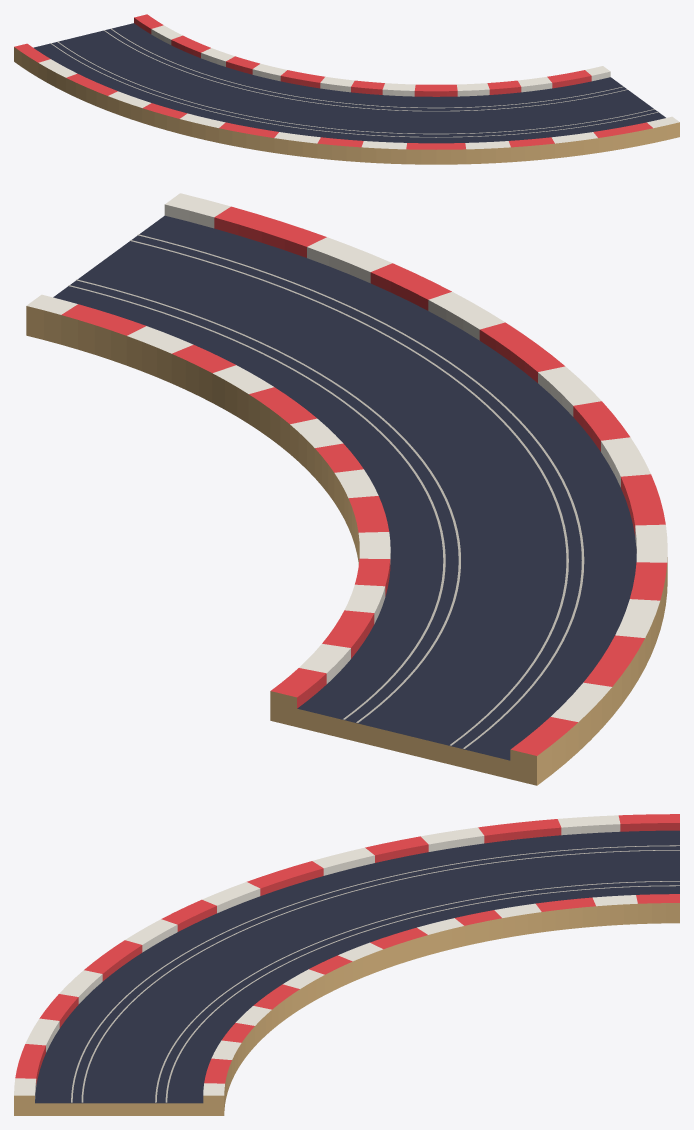
Rendered from Track_2L_Curve90_L.fbx.
3 views of the same model, one above another, from view 1: azimuth 30°, elevation 25°; view 2: azimuth 150°, elevation 25°; view 3: azimuth 270°, elevation 25° (orthographic). The views are drawn at different scales.
Parts seen in each view (by area): view 1: Track_2L_Curve90_L; view 2: Track_2L_Curve90_L; view 3: Track_2L_Curve90_L.
Part boxes in pixels (bbox=[...]): Track_2L_Curve90_L: bbox=[14, 14, 679, 164]; Track_2L_Curve90_L: bbox=[26, 193, 667, 785]; Track_2L_Curve90_L: bbox=[14, 814, 679, 1115].
Size of the model in its own units: 9.5 by 0.32 by 9.5.
